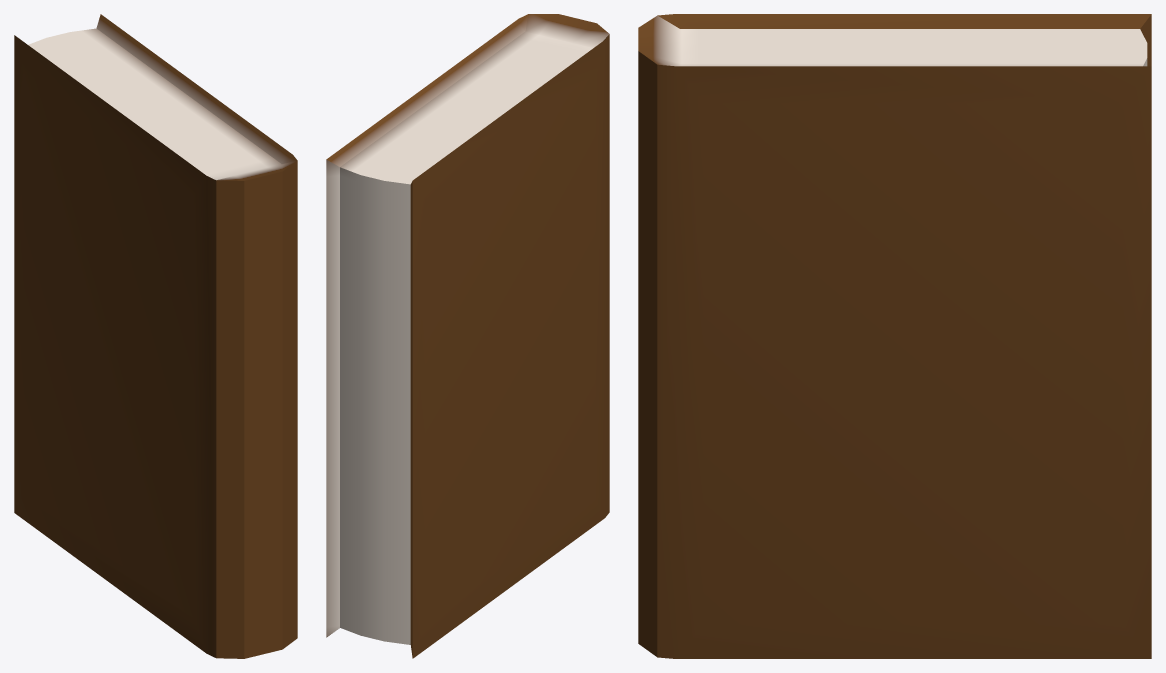
File: book brown.fbx
3 renders of one model, left to right at view 1: azimuth 30°, elevation 25°; view 2: azimuth 150°, elevation 25°; view 3: azimuth 270°, elevation 25°, orthographic. The views are drawn at different scales.
Parts seen in each view (by area): view 1: book.001; view 2: book.001; view 3: book.001.
Part boxes in pixels (left/top/right/bottom): book.001: left=14, top=14, right=297, bottom=658; book.001: left=326, top=14, right=609, bottom=658; book.001: left=638, top=14, right=1151, bottom=658.
Bounding box in the file's own units: 4.27 × 21.67 × 17.01.
